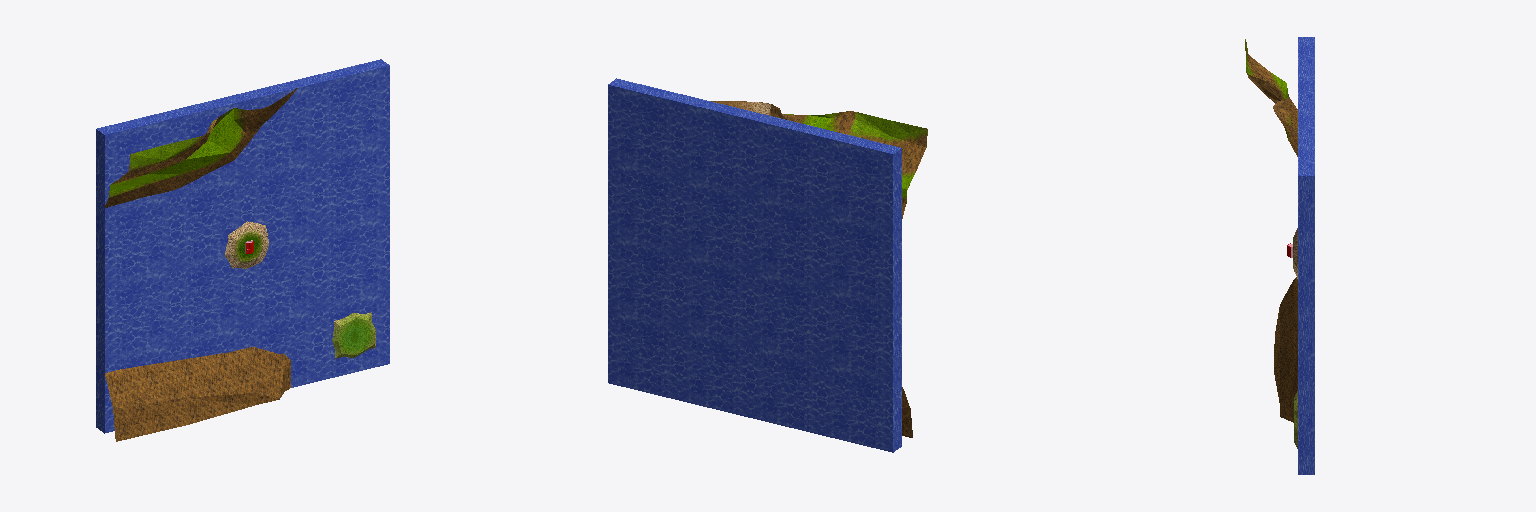
The picture shows the model from 3 angles: view 1: azimuth 30°, elevation 25°; view 2: azimuth 150°, elevation 25°; view 3: azimuth 270°, elevation 25°; orthographic projection.
Visible parts, largest first — view 1: BSP_Object.model_0, BSP_Object.model_10, BSP_Object.model_21, BSP_Object.model_11, BSP_Object.model_19, BSP_Object.model_20, BSP_Object.model_18, BSP_Object.model_13, BSP_Object.model_16, BSP_Object.model_14, BSP_Object.model_17, BSP_Object.model_12 (+5 smaller); view 2: BSP_Object.model_12, BSP_Object.model_10, BSP_Object.model_9, BSP_Object.model_18, BSP_Object.model_11, BSP_Object.model_15, BSP_Object.model_21, BSP_Object.model_7, BSP_Object.model_17, BSP_Object.model_16, BSP_Object.model_13, BSP_Object.model_19 (+5 smaller); view 3: BSP_Object.model_0, BSP_Object.model_21, BSP_Object.model_6, BSP_Object.model_20, BSP_Object.model_19, BSP_Object.model_12, BSP_Object.model_15, BSP_Object.model_18.
Boxes of the visible parts, <box> form: BSP_Object.model_0: <box>105,88,375,441</box>; BSP_Object.model_10: <box>96,267,175,358</box>; BSP_Object.model_21: <box>310,59,389,156</box>; BSP_Object.model_11: <box>96,192,175,283</box>; BSP_Object.model_19: <box>318,215,389,306</box>; BSP_Object.model_20: <box>318,140,389,231</box>; BSP_Object.model_18: <box>239,77,317,174</box>; BSP_Object.model_13: <box>176,255,246,340</box>; BSP_Object.model_16: <box>247,232,317,323</box>; BSP_Object.model_14: <box>176,175,246,266</box>; BSP_Object.model_17: <box>247,158,317,243</box>; BSP_Object.model_12: <box>96,112,175,209</box>; BSP_Object.model_12: <box>822,131,901,228</box>; BSP_Object.model_10: <box>822,286,901,377</box>; BSP_Object.model_9: <box>822,361,901,452</box>; BSP_Object.model_18: <box>679,96,758,193</box>; BSP_Object.model_11: <box>822,212,901,302</box>; BSP_Object.model_15: <box>751,113,829,210</box>; BSP_Object.model_21: <box>608,78,686,176</box>; BSP_Object.model_7: <box>679,326,750,417</box>; BSP_Object.model_17: <box>679,177,750,268</box>; BSP_Object.model_16: <box>679,251,750,342</box>; BSP_Object.model_13: <box>751,269,821,360</box>; BSP_Object.model_19: <box>608,234,678,325</box>; BSP_Object.model_0: <box>1245,39,1297,448</box>; BSP_Object.model_21: <box>1298,142,1314,250</box>; BSP_Object.model_6: <box>1298,400,1314,474</box>; BSP_Object.model_20: <box>1298,251,1314,325</box>; BSP_Object.model_19: <box>1298,326,1314,399</box>; BSP_Object.model_12: <box>1298,37,1314,71</box>; BSP_Object.model_15: <box>1298,72,1314,106</box>; BSP_Object.model_18: <box>1298,107,1314,141</box>.
Size of the model in its own units: 6144 by 6144 by 1299.
Materials: 49 (49 with a texture image).